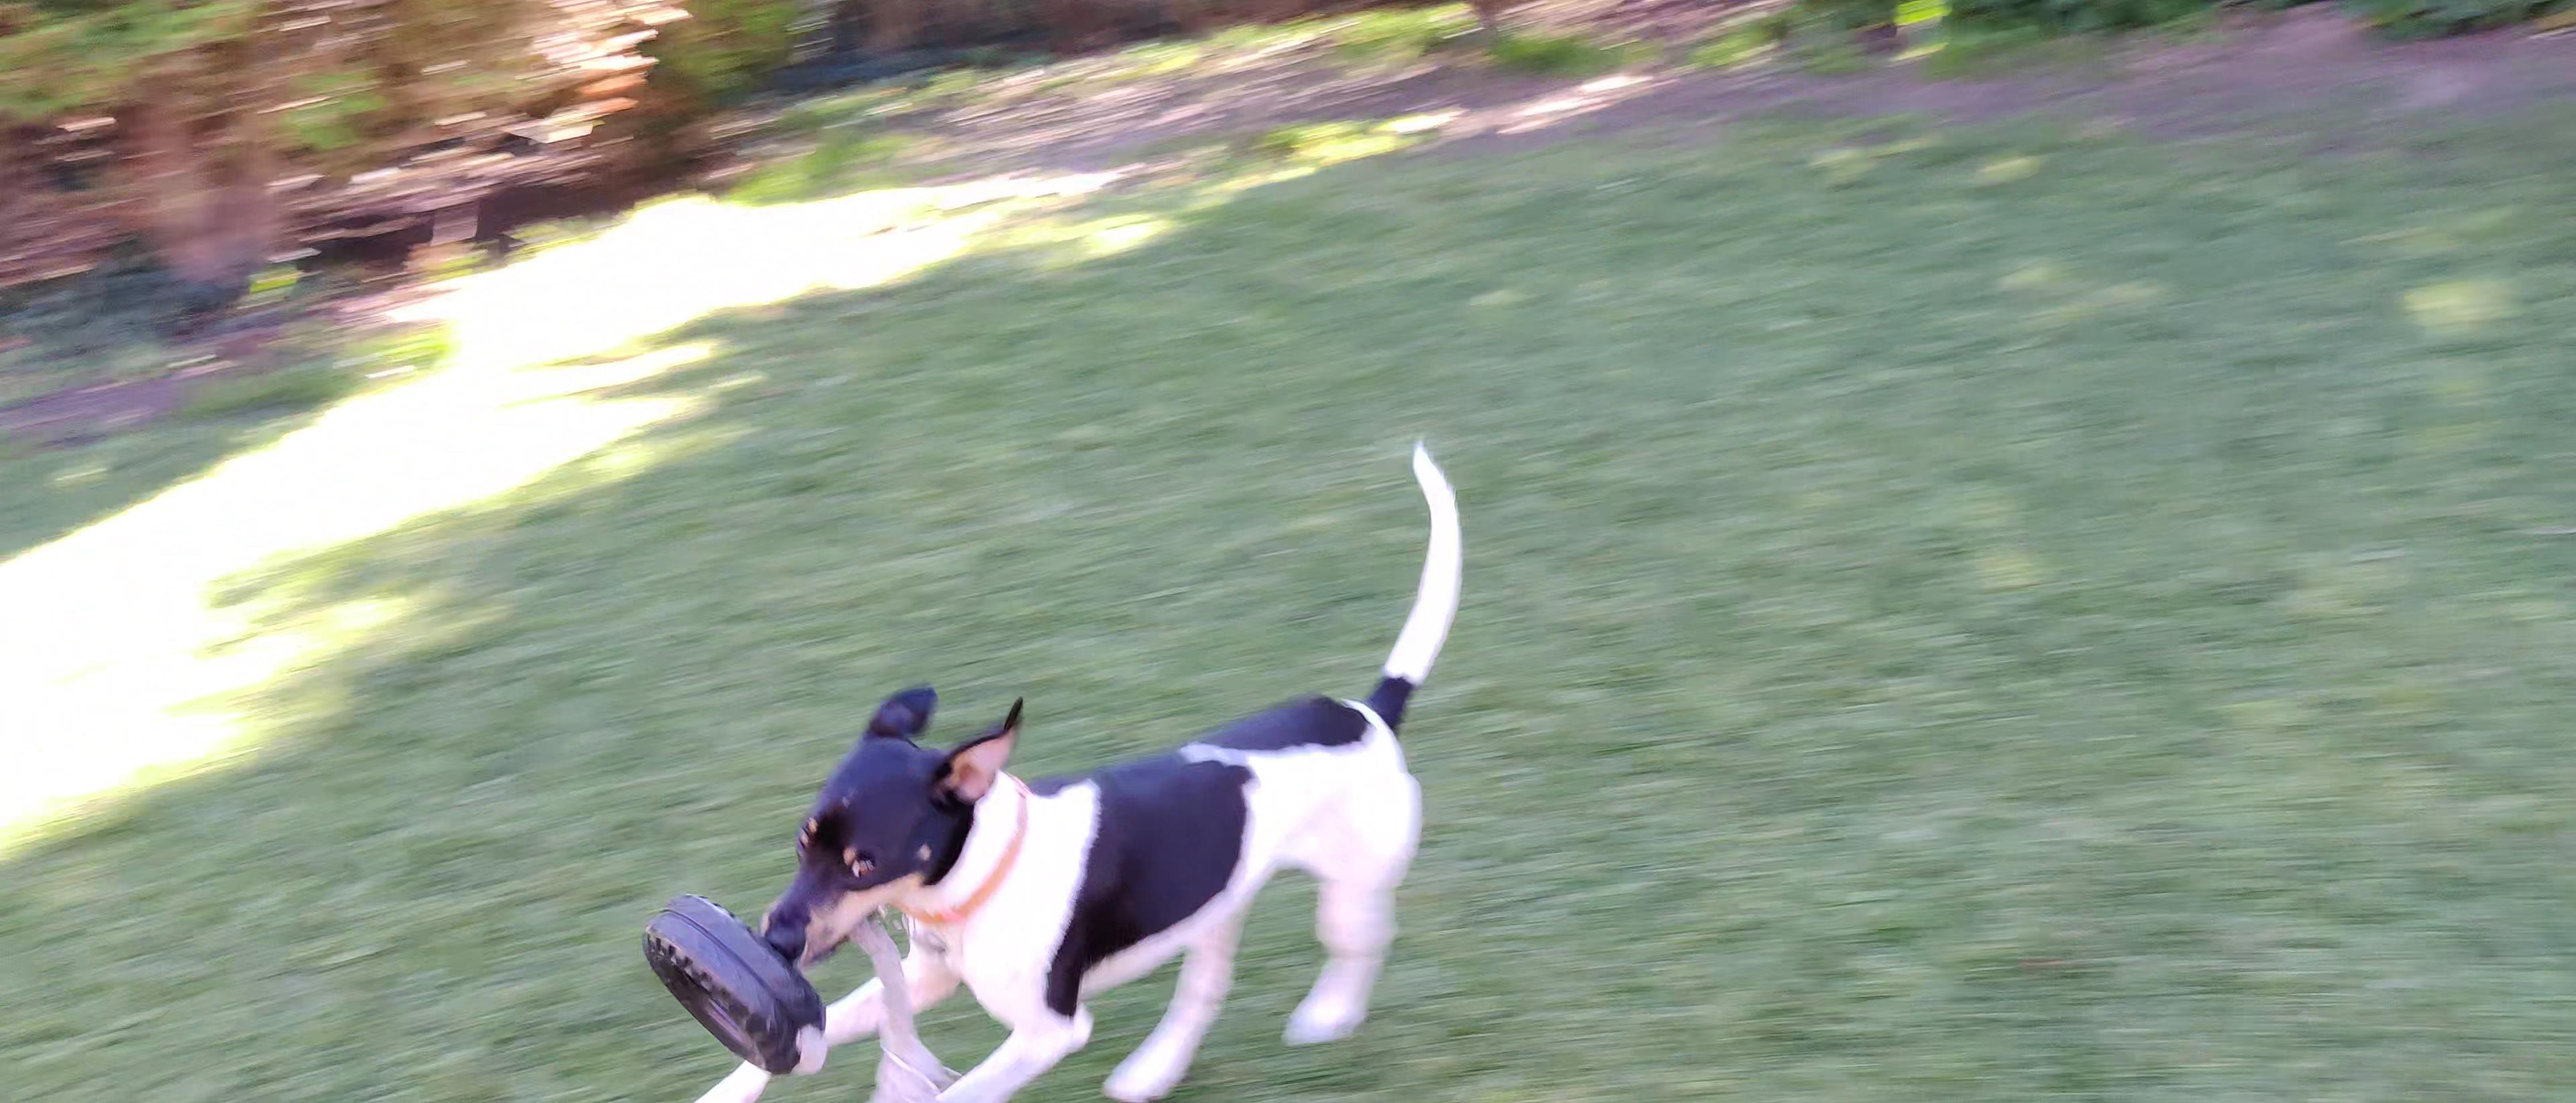Dog: (672, 424, 1495, 1103)
